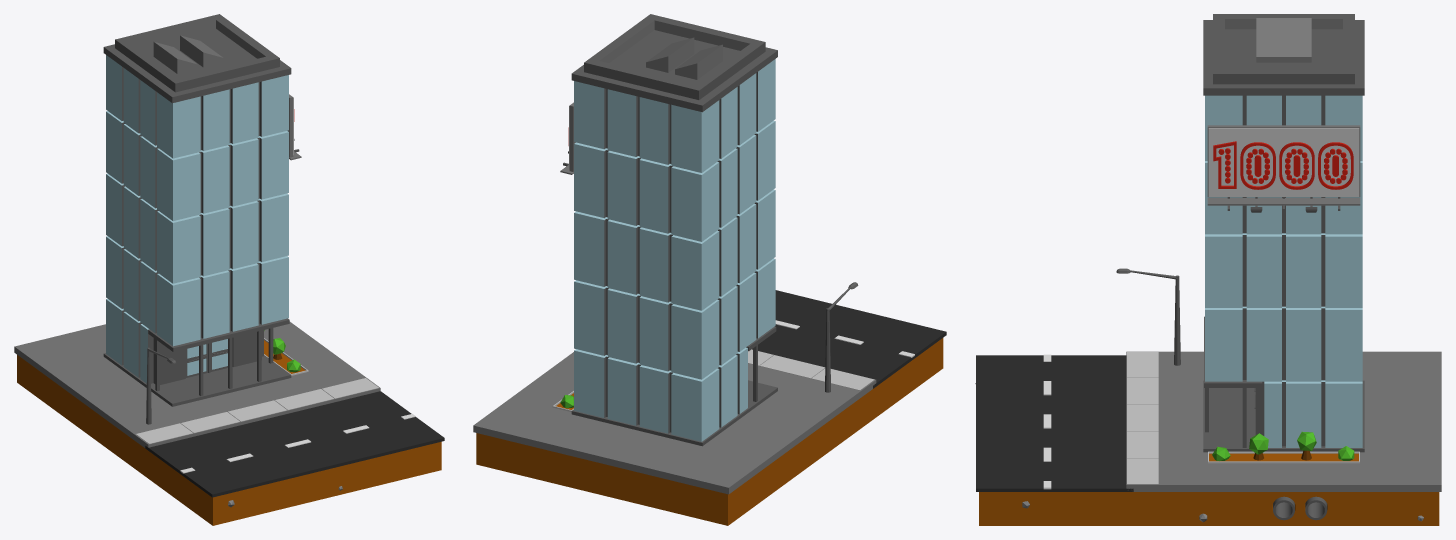
File: cities_b1.fbx
3 views of the same model, side by side, from view 1: azimuth 30°, elevation 25°; view 2: azimuth 150°, elevation 25°; view 3: azimuth 270°, elevation 25° (orthographic). The views are drawn at different scales.
Visible parts, largest first — view 1: Cube_2, ZEMIN, Cube_17_2, Cube_2_2, Cube_4_2, Cube_3_2, Cube_5_2, Cube_13, Cube_6_2, Cube_14, Cube_1_4, Cube_1_2 (+15 smaller); view 2: ZEMIN, Cube_17_2, Cube_2_2, Cube_3_2, Cube_4_2, Cube_5_2, Cube_1_4, Cube_2, Cube_13, Cube_6_2, Cube_1_3, Cube_14 (+10 smaller); view 3: ZEMIN, Cube_2, Cube_17_2, Cube_2_2, Cube_3_2, Cube_2_7, Cube_1_4, Cube_13, Cube_5_2, Cube_4_2, Cube_6_2, Cube_14 (+17 smaller).
Boxes of the visible parts, <box> form: Cube_2: <box>145,391,444,497</box>; ZEMIN: <box>14,321,380,447</box>; Cube_17_2: <box>17,355,441,525</box>; Cube_2_2: <box>106,236,288,346</box>; Cube_4_2: <box>106,111,288,220</box>; Cube_3_2: <box>106,173,288,283</box>; Cube_5_2: <box>106,55,288,158</box>; Cube_13: <box>103,28,291,103</box>; Cube_6_2: <box>115,14,279,383</box>; Cube_14: <box>103,353,291,406</box>; Cube_1_4: <box>106,298,261,395</box>; Cube_1_2: <box>160,331,261,384</box>; ZEMIN: <box>473,352,876,494</box>; Cube_17_2: <box>476,338,943,525</box>; Cube_2_2: <box>574,258,775,379</box>; Cube_3_2: <box>574,189,775,310</box>; Cube_4_2: <box>574,120,775,241</box>; Cube_5_2: <box>574,59,775,172</box>; Cube_1_4: <box>574,345,757,441</box>; Cube_2: <box>752,290,946,388</box>; Cube_13: <box>571,30,777,112</box>; Cube_6_2: <box>584,14,765,370</box>; Cube_1_3: <box>599,20,749,62</box>; Cube_14: <box>571,380,777,446</box>; ZEMIN: <box>1126,351,1441,491</box>; Cube_2: <box>976,355,1133,491</box>; Cube_17_2: <box>979,492,1439,525</box>; Cube_2_2: <box>1205,306,1362,381</box>; Cube_3_2: <box>1205,233,1362,307</box>; Cube_2_7: <box>1208,128,1359,196</box>; Cube_1_4: <box>1242,380,1362,447</box>; Cube_13: <box>1203,20,1364,95</box>; Cube_5_2: <box>1205,95,1362,160</box>; Cube_4_2: <box>1205,161,1362,234</box>; Cube_6_2: <box>1213,14,1354,435</box>; Cube_14: <box>1203,380,1364,452</box>.
Size of the model in its own units: 405 by 593 by 592.
